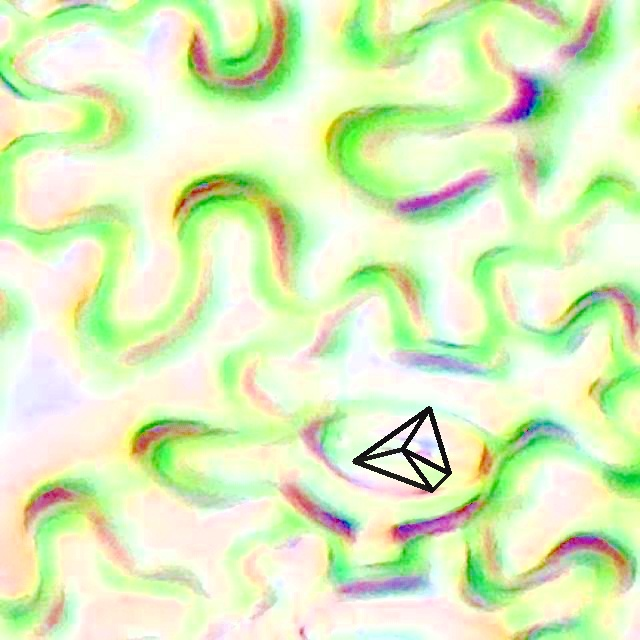open: (352, 406, 451, 492)
